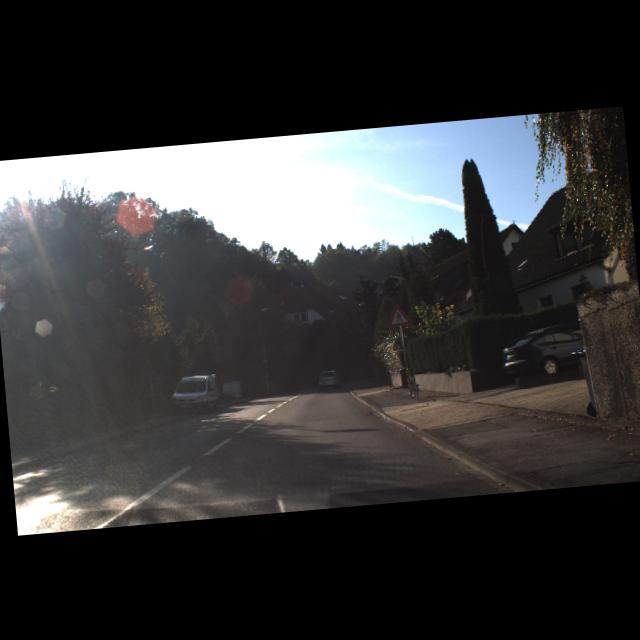danger: (386, 302, 412, 326)
